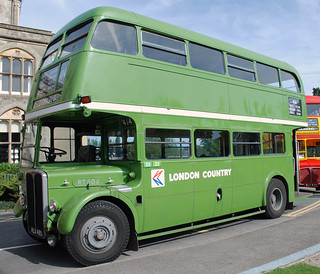bus: (12, 6, 308, 266)
